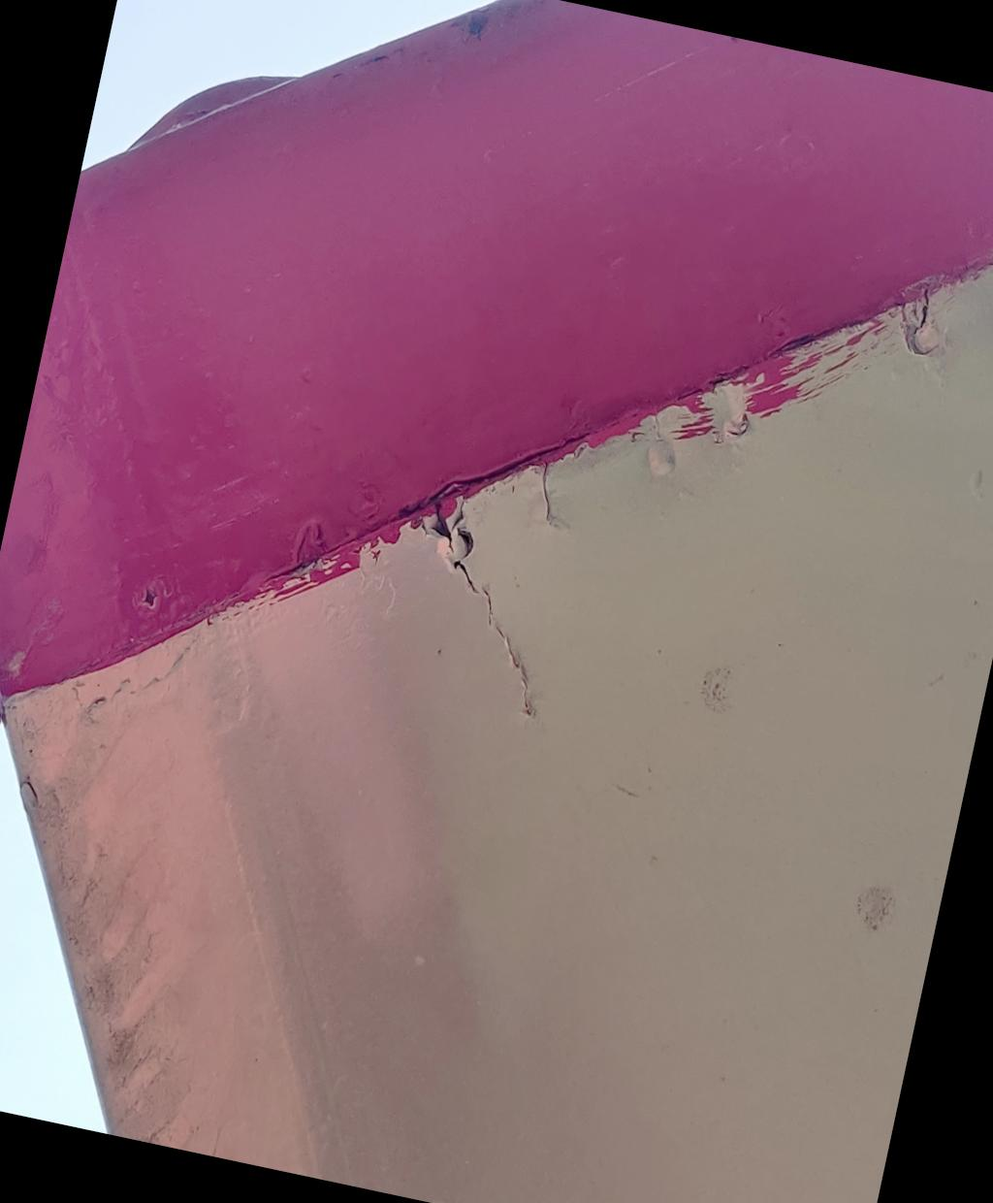crack: (372, 476, 586, 740), (512, 444, 583, 545), (896, 267, 947, 355)
